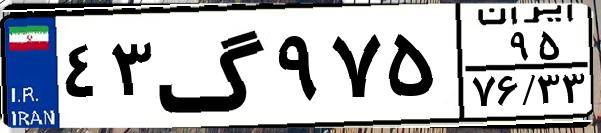3: (110, 28, 156, 98), (560, 70, 590, 125), (535, 70, 560, 125)
4: (57, 26, 110, 100)
5: (385, 28, 445, 110), (537, 27, 568, 80)
6: (495, 70, 520, 125)
7: (330, 28, 385, 110), (470, 70, 495, 125)
9: (270, 28, 330, 110), (508, 27, 537, 80)
گ: (156, 12, 270, 120)
